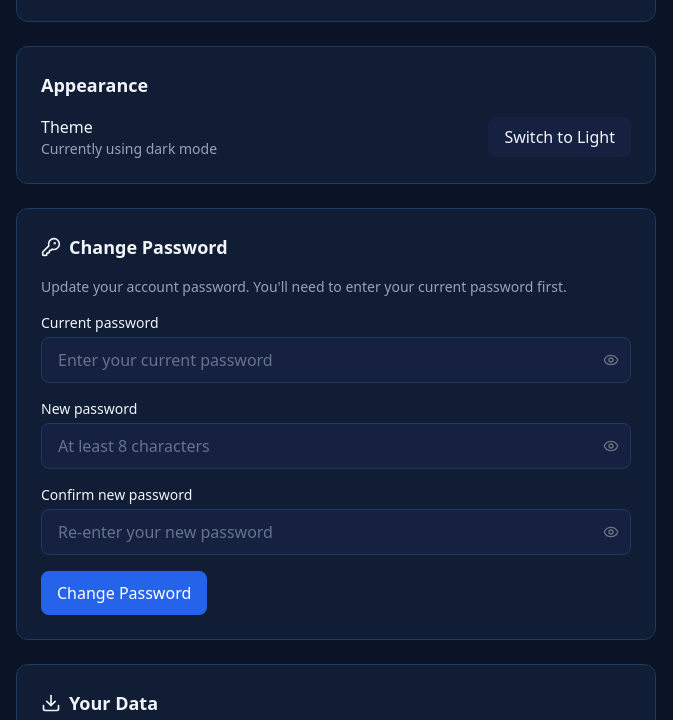
Test: SettingsPage - change password validation › rejects a confirm-password value that does not match
This screenshot has width=673, height=720.
(page scrolled)
In the password field labelled "Current password": (336, 360) [41,337,631,383], type "OldPass2025!"
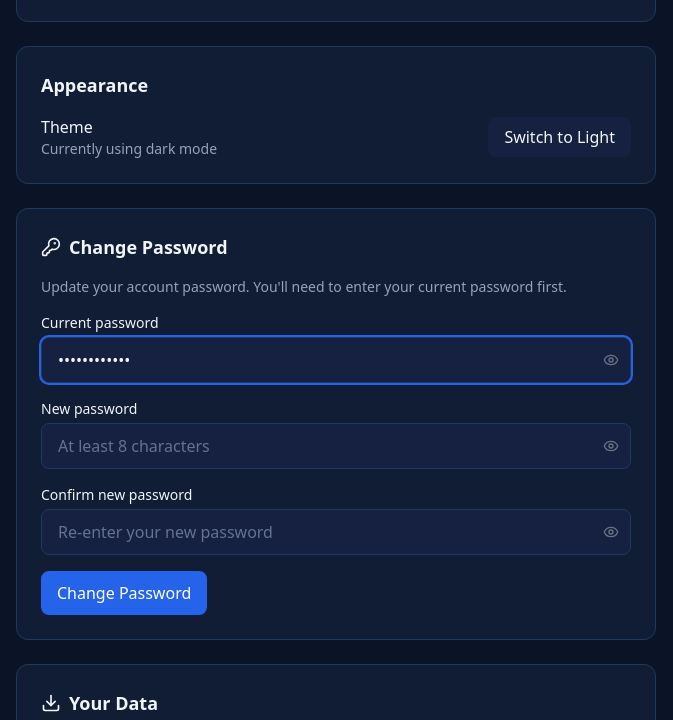
In the password field labelled "New password": (336, 446) [41,423,631,469], type "TestPass2026!"
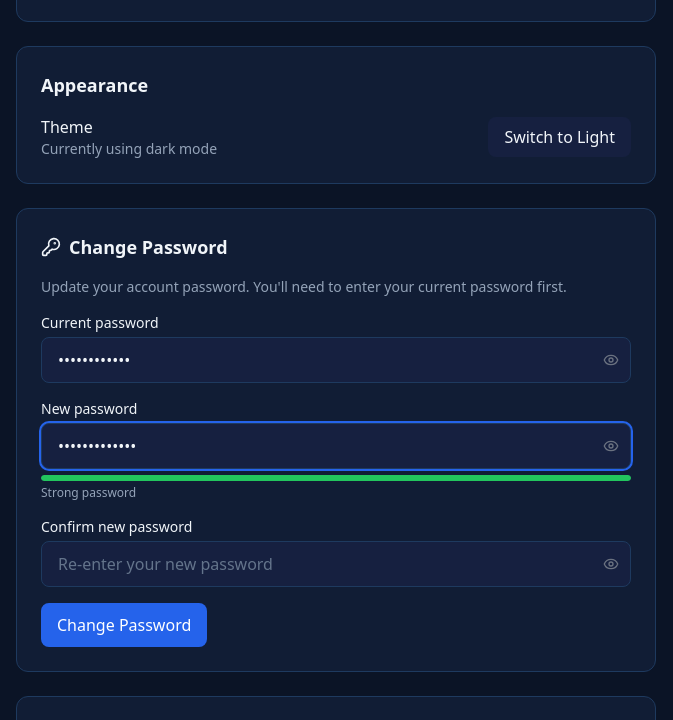
In the password field labelled "Confirm new password": (336, 564) [41,541,631,587], type "DifferentPass1!"
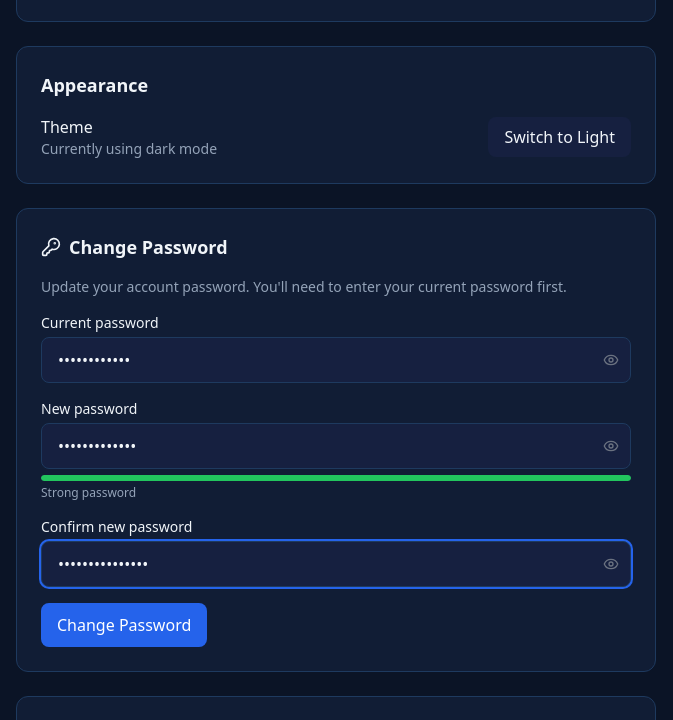
Click the button "Change Password": (124, 625) [41,603,207,647]
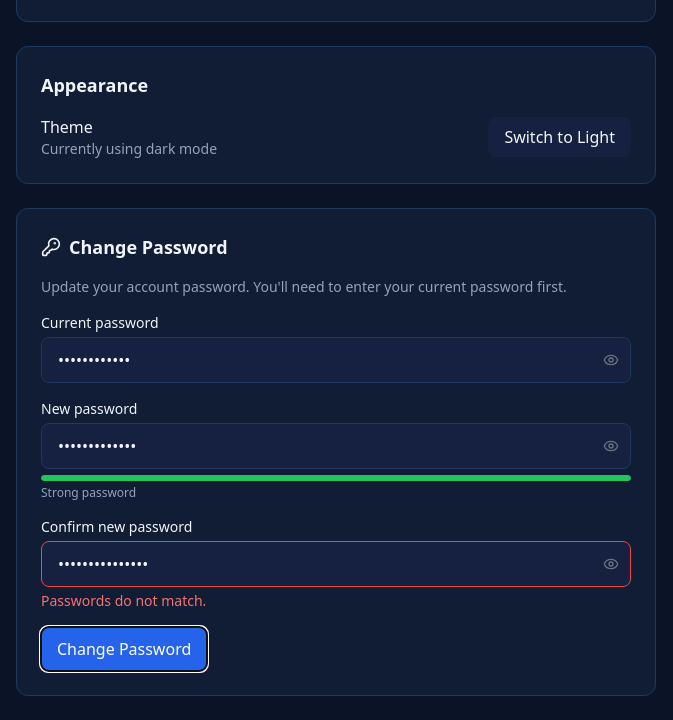
Check: the text "Passwords do not match." is shown, box [41,591,206,610]
